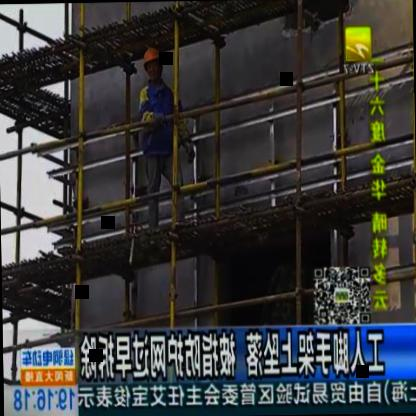helmet: (140, 42, 163, 80)
